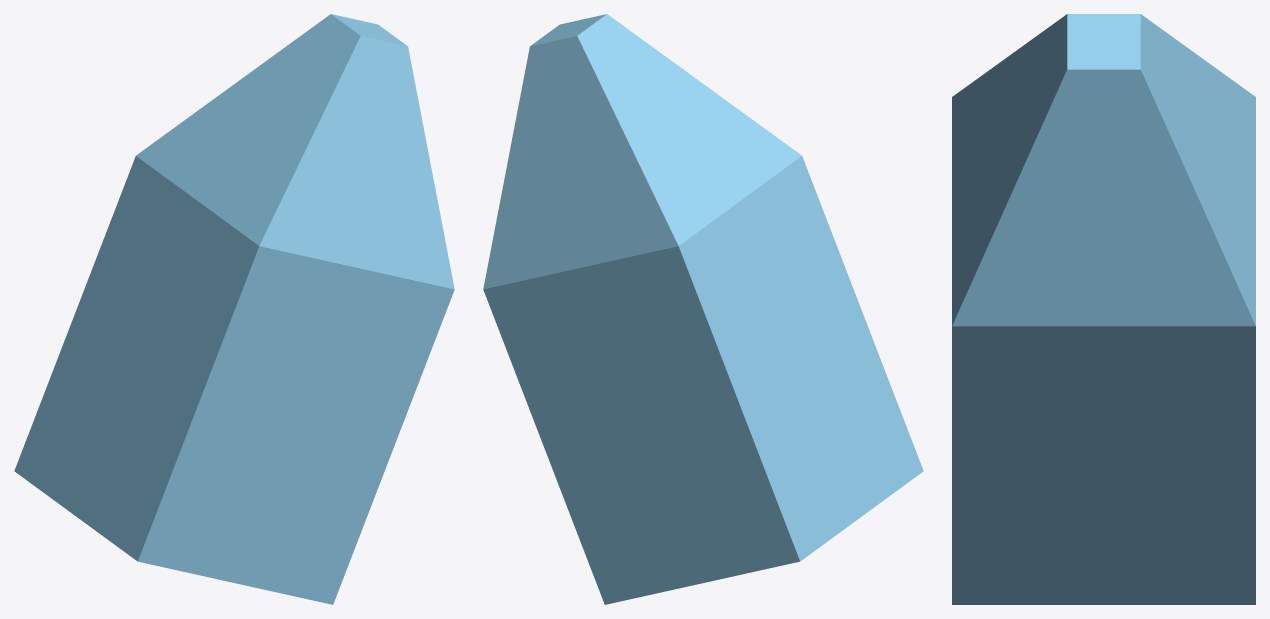
Rendered from R_Arm.gltf.
The picture shows the model from 3 angles, left to right: view 1: azimuth 30°, elevation 25°; view 2: azimuth 150°, elevation 25°; view 3: azimuth 270°, elevation 25°; orthographic projection. The views are drawn at different scales.
Visible parts, largest first — view 1: arm_L; view 2: arm_L; view 3: arm_L.
Boxes of the visible parts, box(x1,y1,x2,y2) form: arm_L: box(14, 14, 454, 604); arm_L: box(483, 14, 923, 604); arm_L: box(952, 14, 1255, 604).
Size of the model in its own units: 2.37 by 3.69 by 1.6.
1 material, 1 textured.
